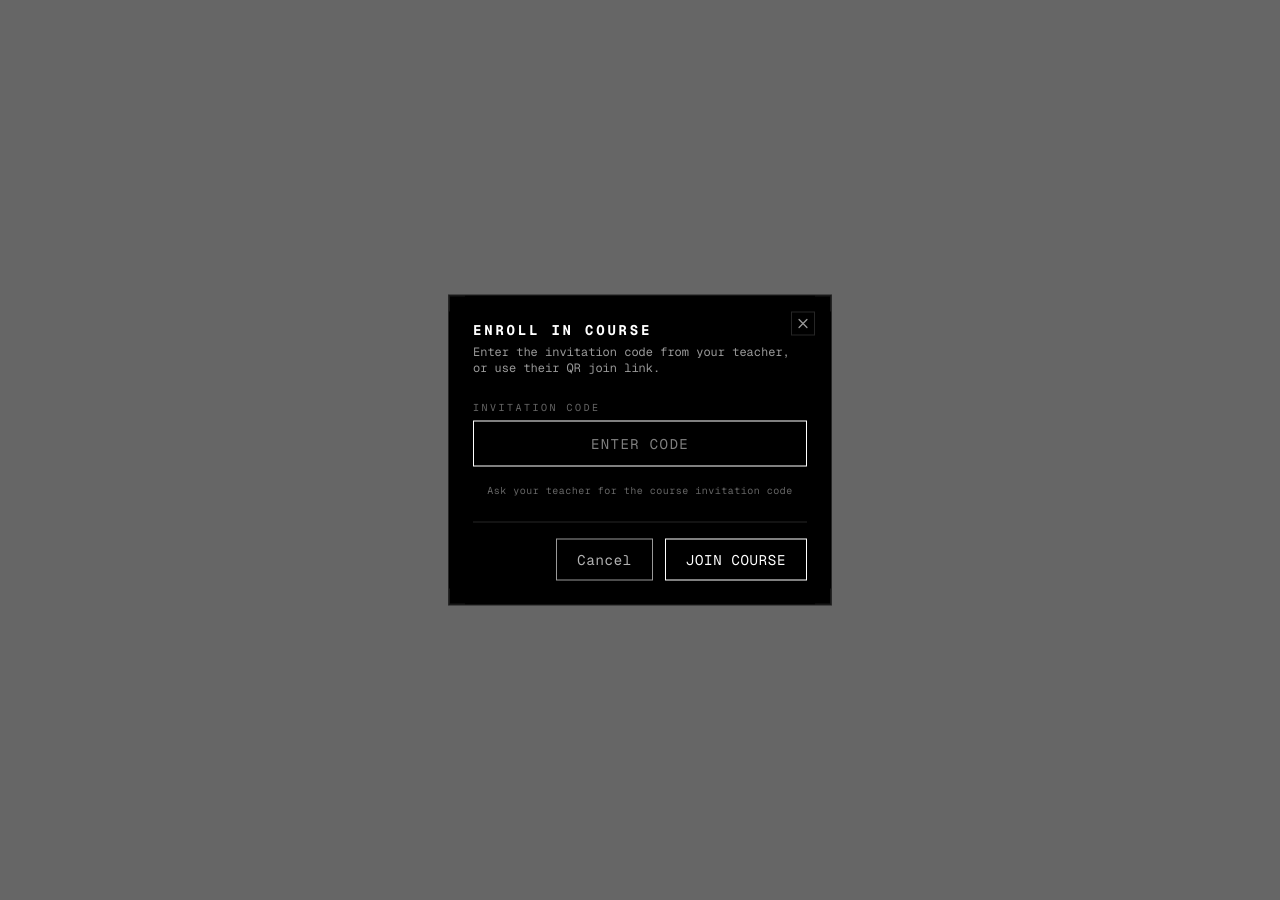
Test case: EnrollCourseModal › shows error when invitation code is too short (< 6 chars)
This screenshot has width=1280, height=900.
Type "ABC" into the field labelled "Invitation Code". click: (640, 444)
box: [473,420,807,466]
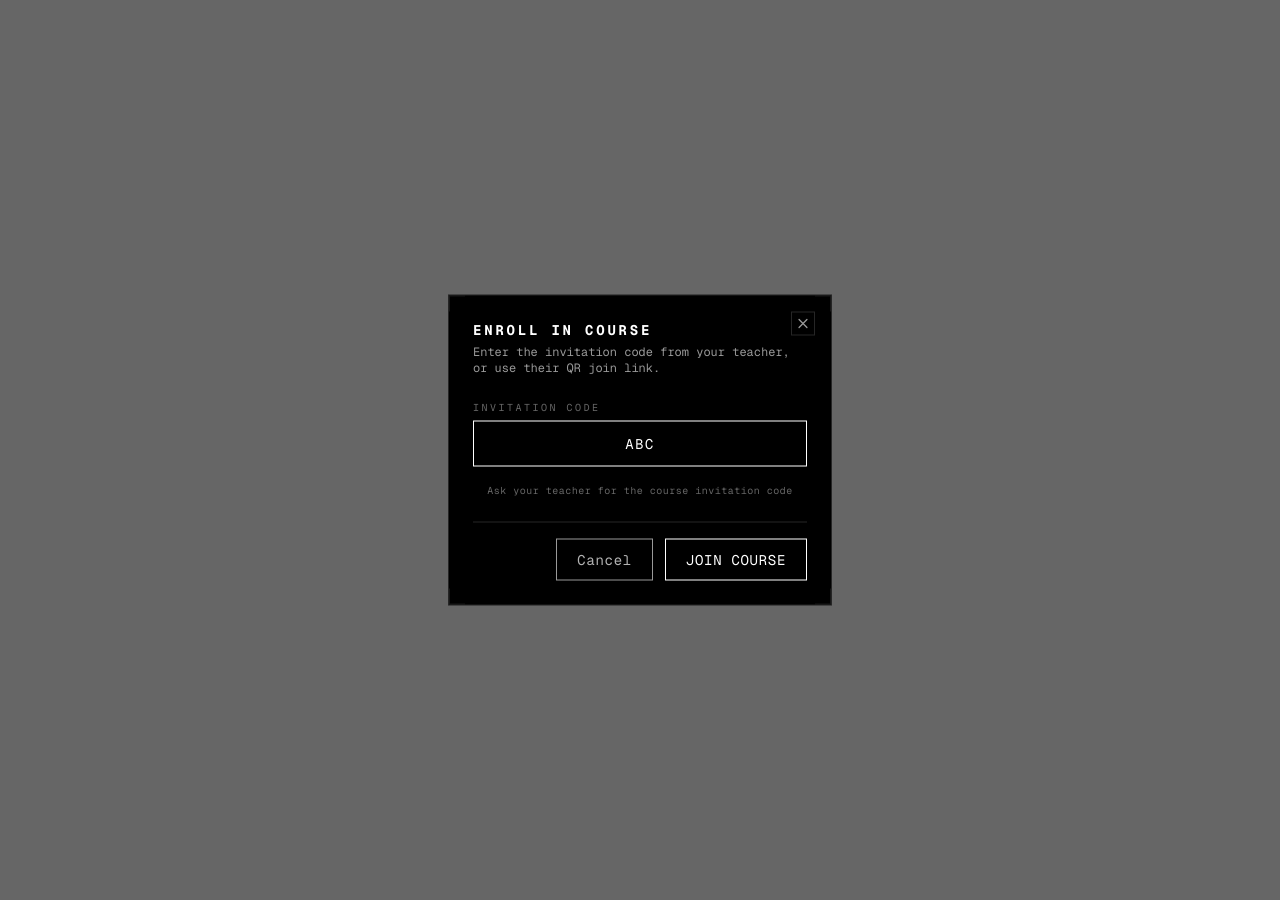
Click the button "JOIN COURSE". click: (736, 560)
box: [665,538,807,580]
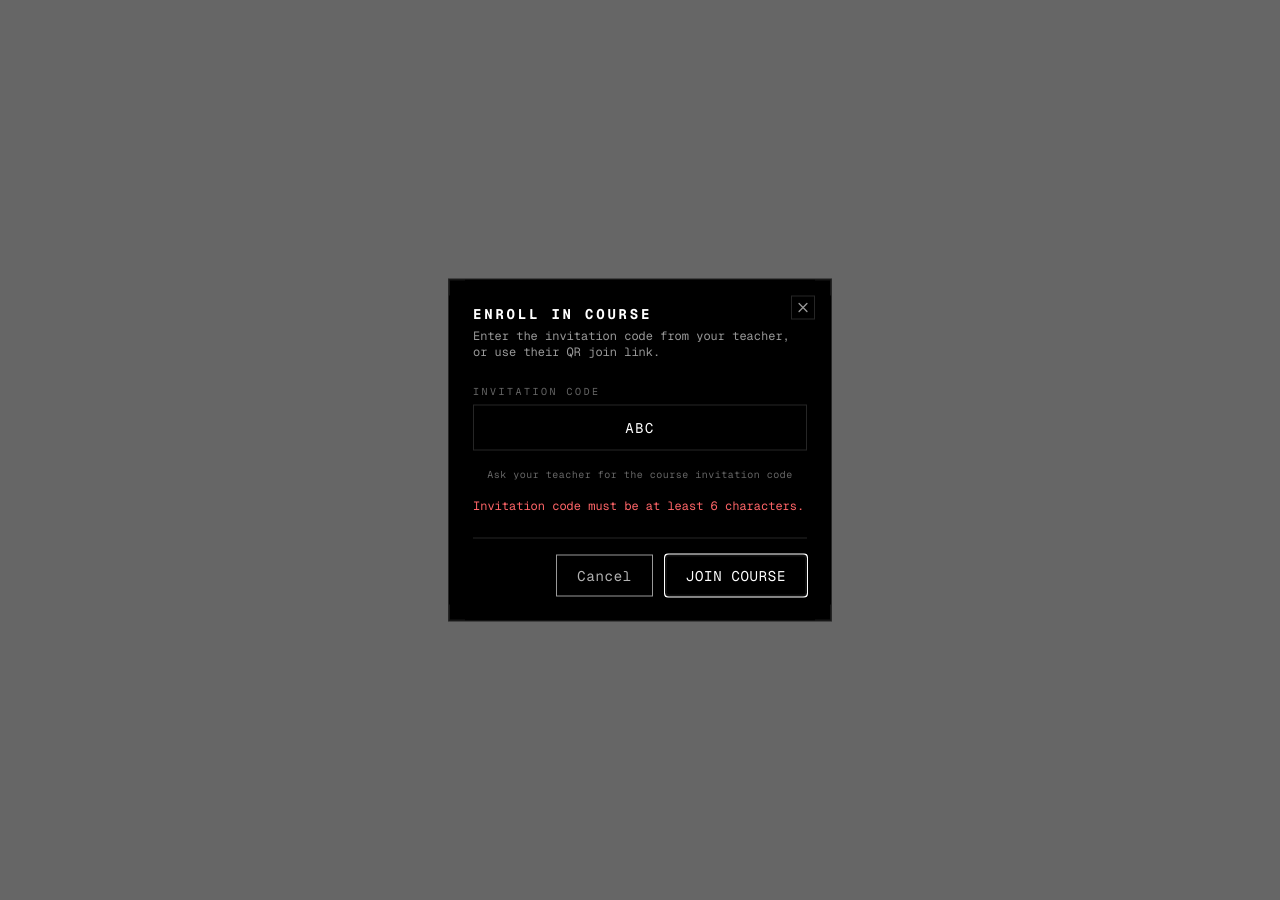
Check: the text "Invitation code must be at least 6 characters." is shown, box [473,498,807,514]
